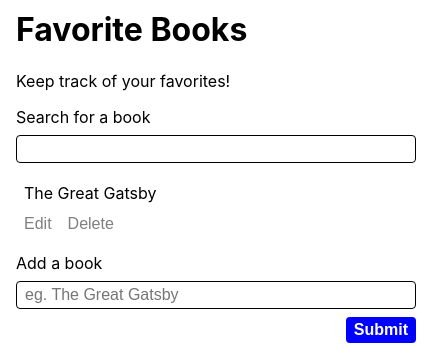
it: App › editing › should be able to edit a book
This screenshot has width=433, height=360.
Click the button "Edit": (38, 224) x1=16 y1=211 x2=60 y2=237
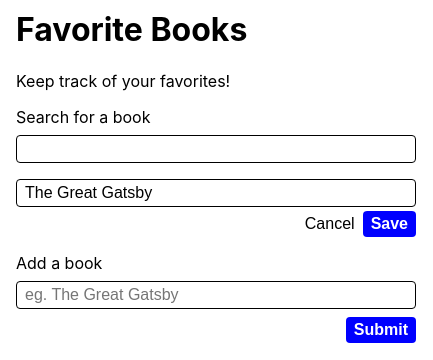
Replace the text in the field with test id "edit-input" with "Harry Potter": (216, 193) x1=16 y1=179 x2=416 y2=207
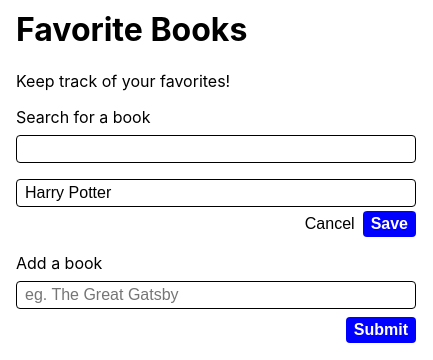
Click the button "Save": (389, 224) x1=363 y1=211 x2=416 y2=237
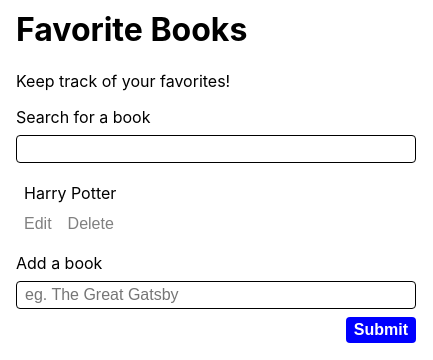
Expected: the text "Harry Potter" is shown, x1=16 y1=179 x2=124 y2=207
Expected: the button "Edit" is shown, x1=16 y1=211 x2=60 y2=237
Expected: the button "Delete" is shown, x1=60 y1=211 x2=122 y2=237
